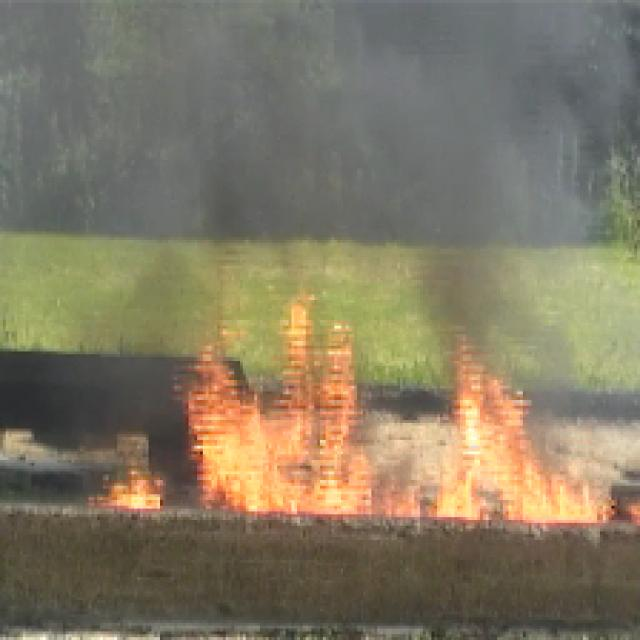fire: (223, 31, 548, 203), (184, 371, 362, 504), (461, 403, 557, 521)
